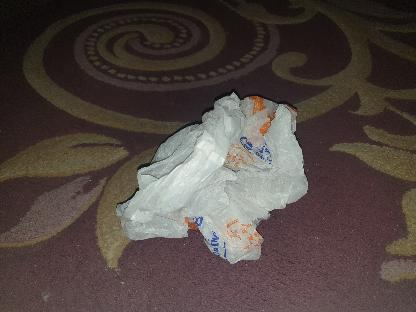Plastic Bag: (114, 91, 310, 266)
